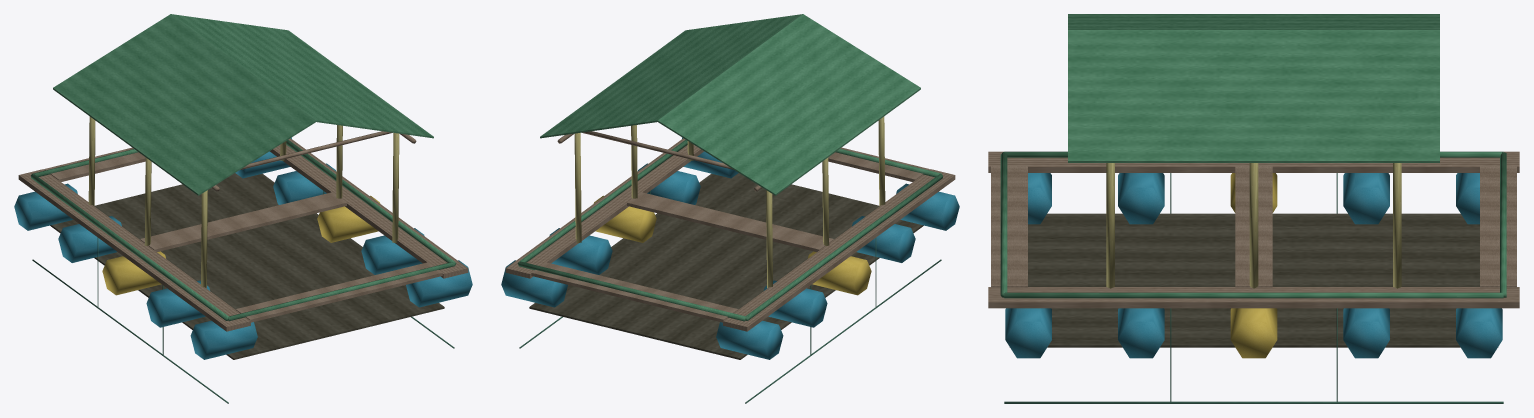
File: bung-raft-1-green-mid.glb
3 views of the same model, side by side, from view 1: azimuth 30°, elevation 25°; view 2: azimuth 150°, elevation 25°; view 3: azimuth 270°, elevation 25° (orthographic). The views are drawn at different scales.
Parts seen in each view (by area): view 1: bung-raft-1-green-mid; view 2: bung-raft-1-green-mid; view 3: bung-raft-1-green-mid.
Boxes of the visible parts, box(x1,y1,x2,y2) form: bung-raft-1-green-mid: box(14, 14, 472, 403); bung-raft-1-green-mid: box(501, 14, 959, 403); bung-raft-1-green-mid: box(988, 14, 1519, 403).
Size of the model in its own units: 4.84 by 4.17 by 6.6.
Materials: 1 (1 with a texture image).
